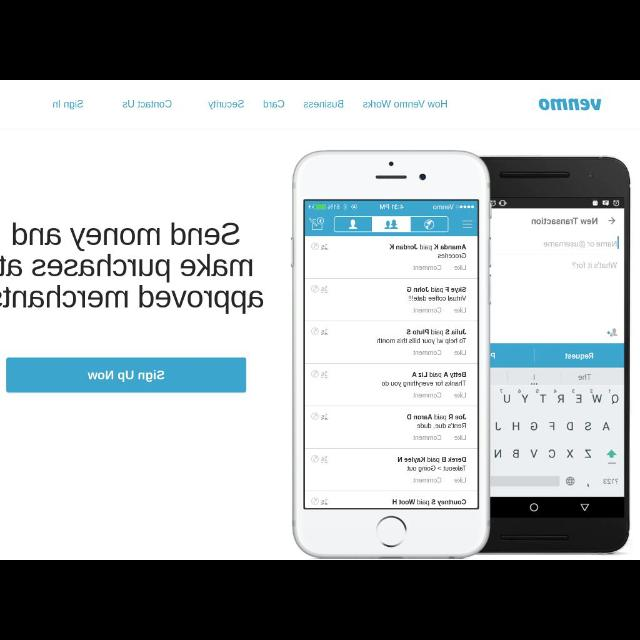backgroundimage: (6, 129, 640, 559)
image: (540, 96, 602, 110)
text: (0, 223, 264, 309), (362, 100, 446, 110), (303, 100, 343, 110), (122, 100, 172, 108), (208, 100, 245, 110), (52, 100, 84, 110), (262, 100, 284, 110)
textbutton: (6, 360, 244, 392)
